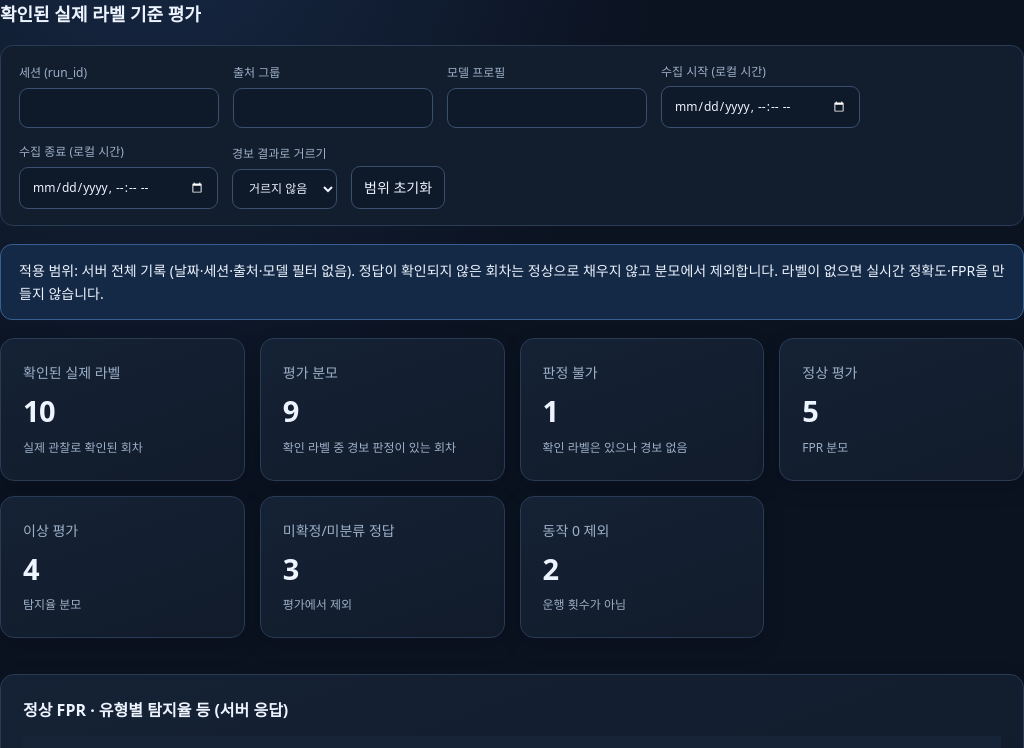
Test: XarmMetricsPanel › 경보 결과로 거르면 조건부 집계임을 표시하고 해당 쿼리로 조회
Expected: the text "확인된 실제 라벨" is shown, 23,363 -> 120,382
Step 1. Select "이상 경보만" in the dropdown labelled "경보 결과로 거르기" → (284, 189), box 232,169 -> 337,209
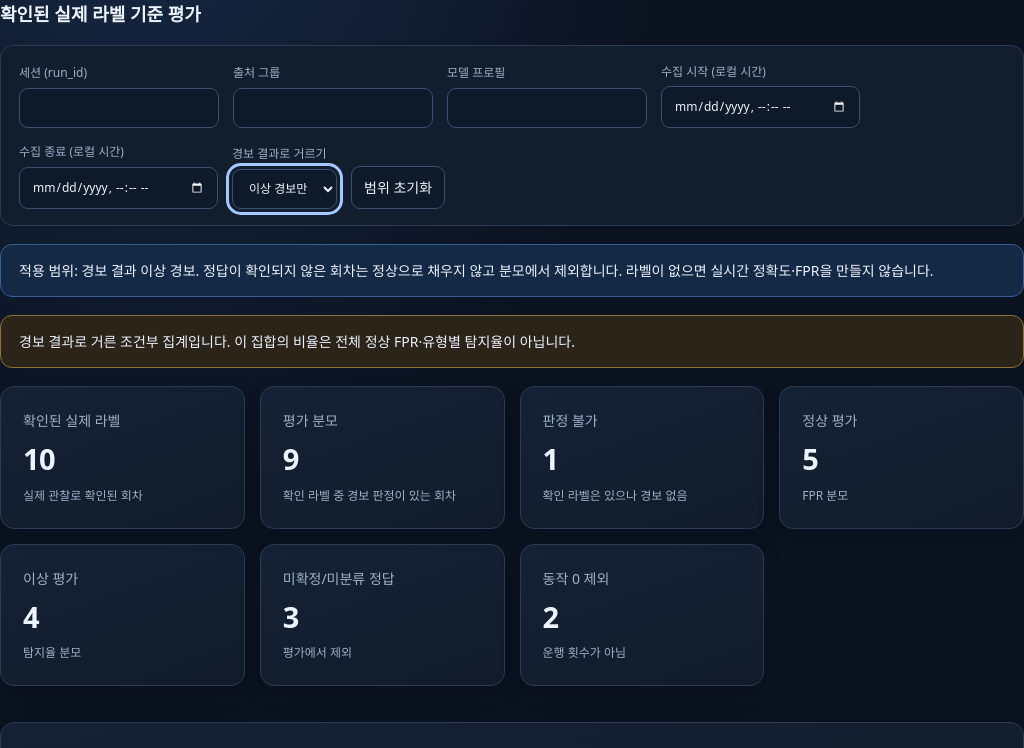
Expected: the text "경보 결과로 거른 조건부 집계입니다. 이 집합의 비율은 전체 정상 FPR·유형별 탐지율이 아닙니다." is shown, 0,315 -> 1023,368
